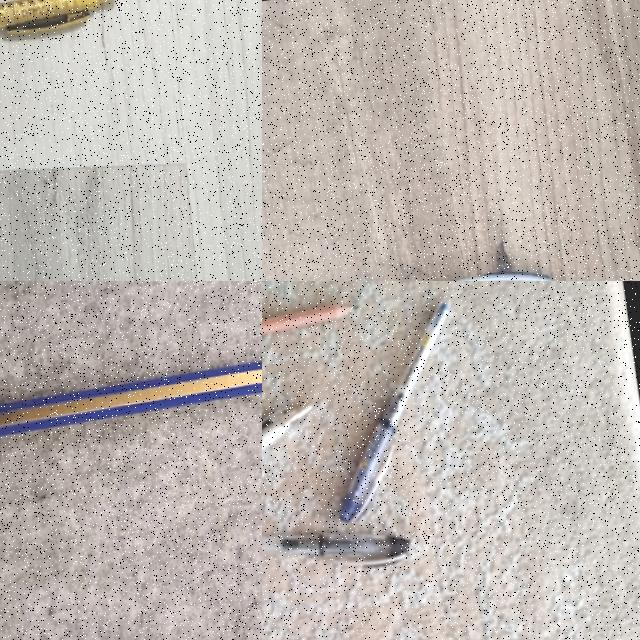pen: (316, 304, 472, 524), (262, 509, 409, 585), (460, 272, 551, 280)
pencil: (0, 362, 261, 436), (262, 300, 361, 369)
signature pen: (262, 403, 319, 529), (0, 0, 112, 33)
